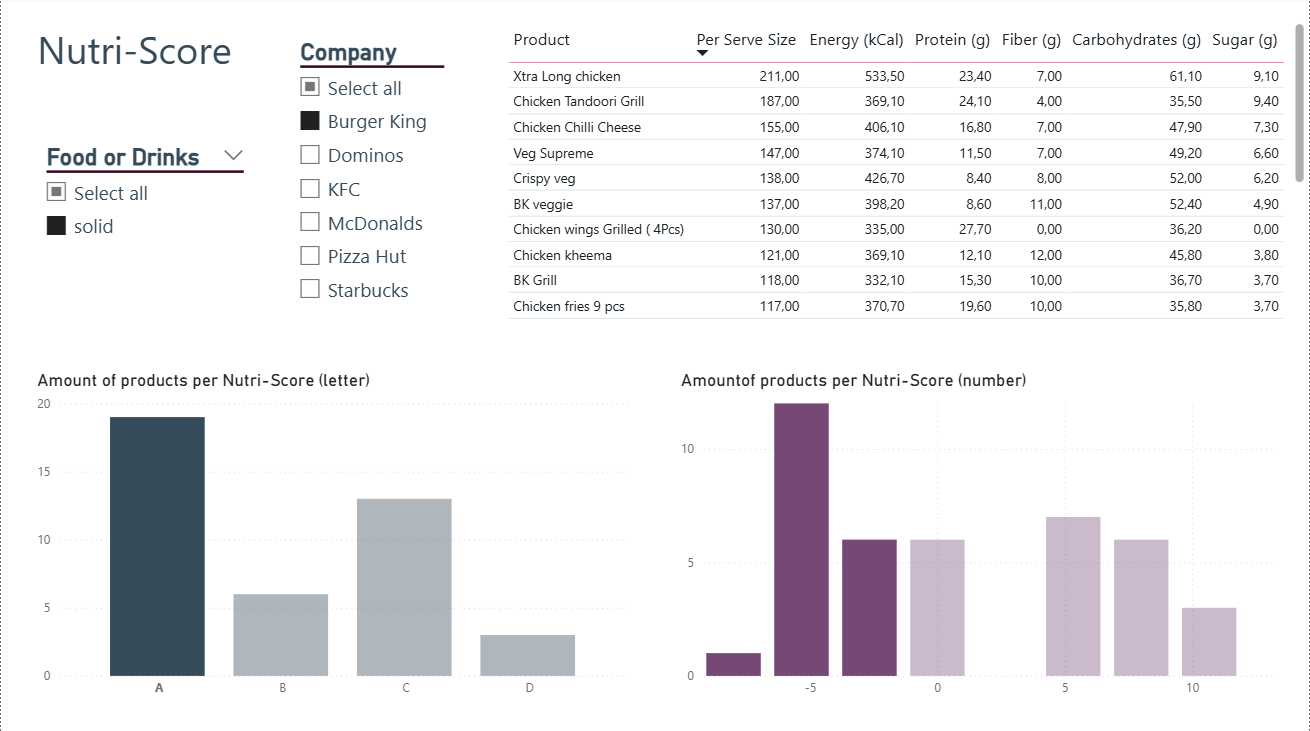

This screenshot's page, from the dashboard's own definition file:
{"tool":"powerbi","page":{"name":"Nutri-Score","canvas":[1280,720],"ordinal":1},"visuals":[{"type":"slicer","fields":{"Values":["nutrition_value.Company"]},"box":[280.5,36.2,166.3,273.3],"z":0},{"type":"textbox","box":[30.4,21.7,219.8,63.6],"z":1000},{"type":"clusteredColumnChart","title":"Amount of products per Nutri-Score (letter)","fields":{"Category":["nutrition_value.nutrition_score_letter"],"Y":["CountNonNull(nutrition_value.nutrition_score_letter)"]},"box":[30.4,365.8,588.5,329.7],"z":2000},{"type":"clusteredColumnChart","title":"Amountof products per Nutri-Score (number)","fields":{"Y":["CountNonNull(nutrition_value.nutrition_score)"],"Category":["nutrition_value.nutrition_score (bins)"]},"box":[660.8,365.8,588.5,329.7],"z":3000},{"type":"tableEx","fields":{"Values":["nutrition_value.Product","nutrition_value.Per Serve Size","nutrition_value.Energy (kCal)","nutrition_value.Protein (g)","nutrition_value.Fiber (g)","nutrition_value.Carbohydrates (g)","nutrition_value.Sugar (g)"]},"box":[490.2,21.7,789.5,302.2],"z":4000},{"type":"slicer","fields":{"Values":["nutrition_value.type"]},"box":[31.8,138.8,218.3,140.3],"z":5000}]}

Visuals, with their boxes in screenshot pixels (x1, y1, x2, y2), scaled from the page's 1280x720 canvas onto the 1310x731 screenshot:
slicer - nutrition_value.Company: x1=287, y1=37, x2=457, y2=314
textbox: x1=31, y1=22, x2=256, y2=87
"Amount of products per Nutri-Score (letter)" clusteredColumnChart: x1=31, y1=371, x2=633, y2=706
"Amountof products per Nutri-Score (number)" clusteredColumnChart: x1=676, y1=371, x2=1279, y2=706
tableEx - nutrition_value.Product x nutrition_value.Per Serve Size: x1=502, y1=22, x2=1309, y2=329
slicer - nutrition_value.type: x1=33, y1=141, x2=256, y2=283
